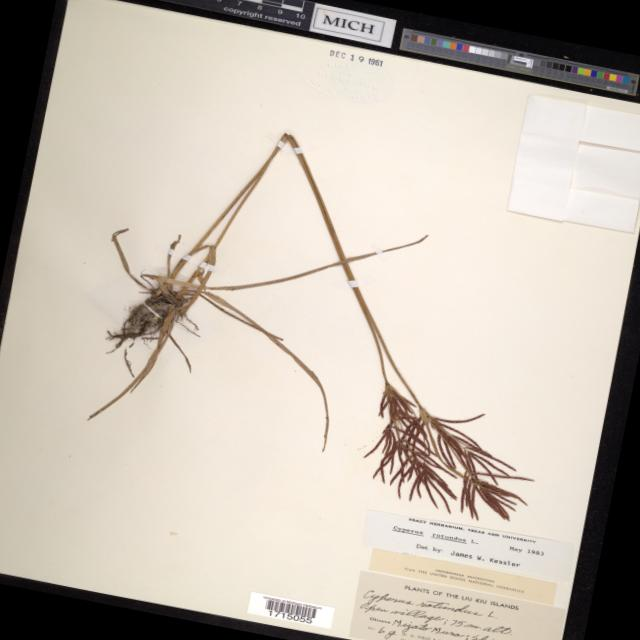cyperus: (338, 369, 552, 531)
